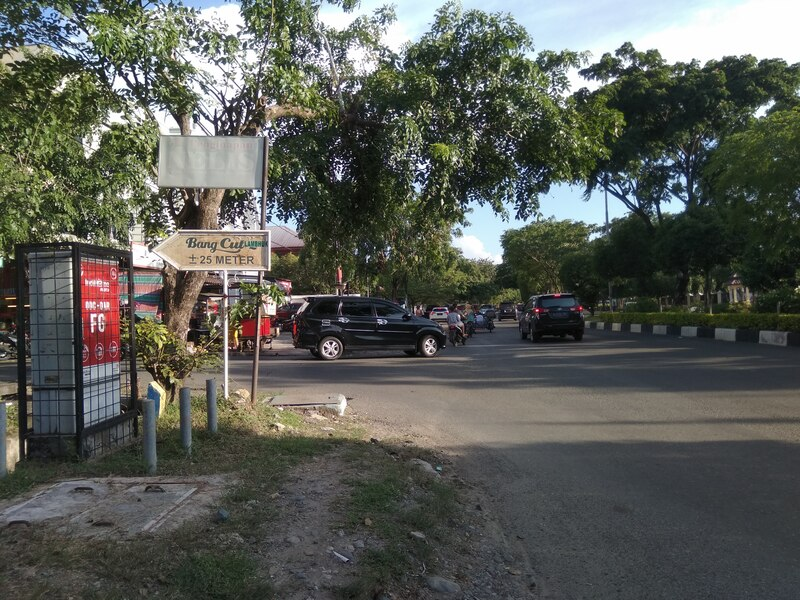car: (288, 295, 449, 361), (515, 292, 595, 346)
